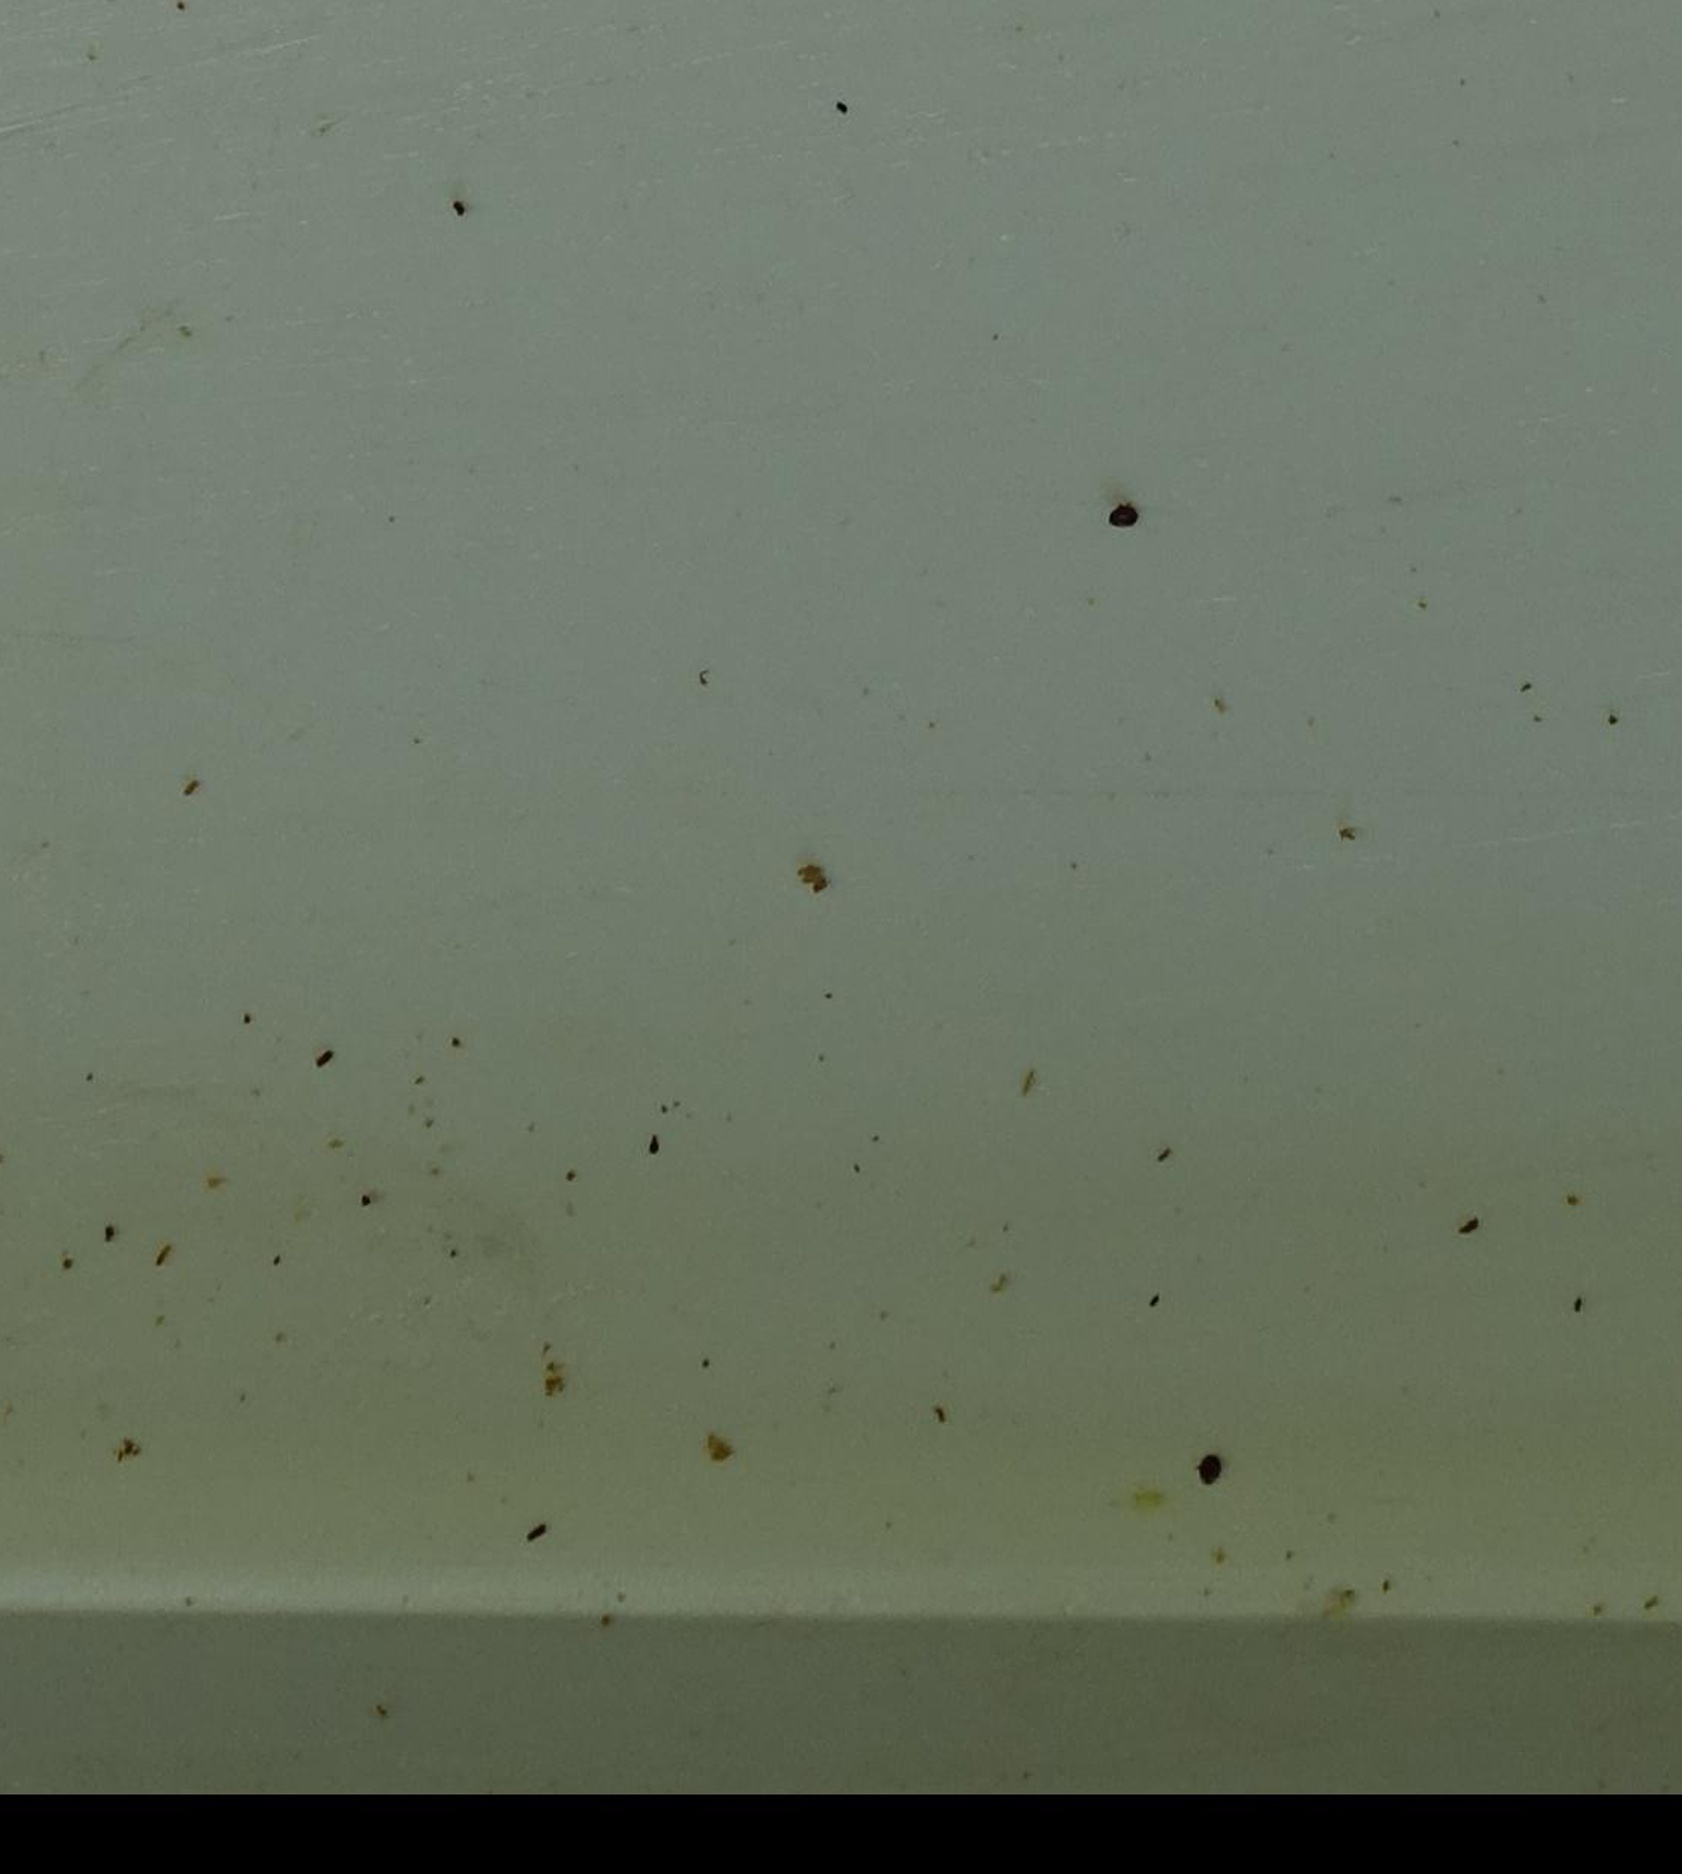Varroa: (1111, 503, 1133, 529), (1197, 1450, 1219, 1476)
